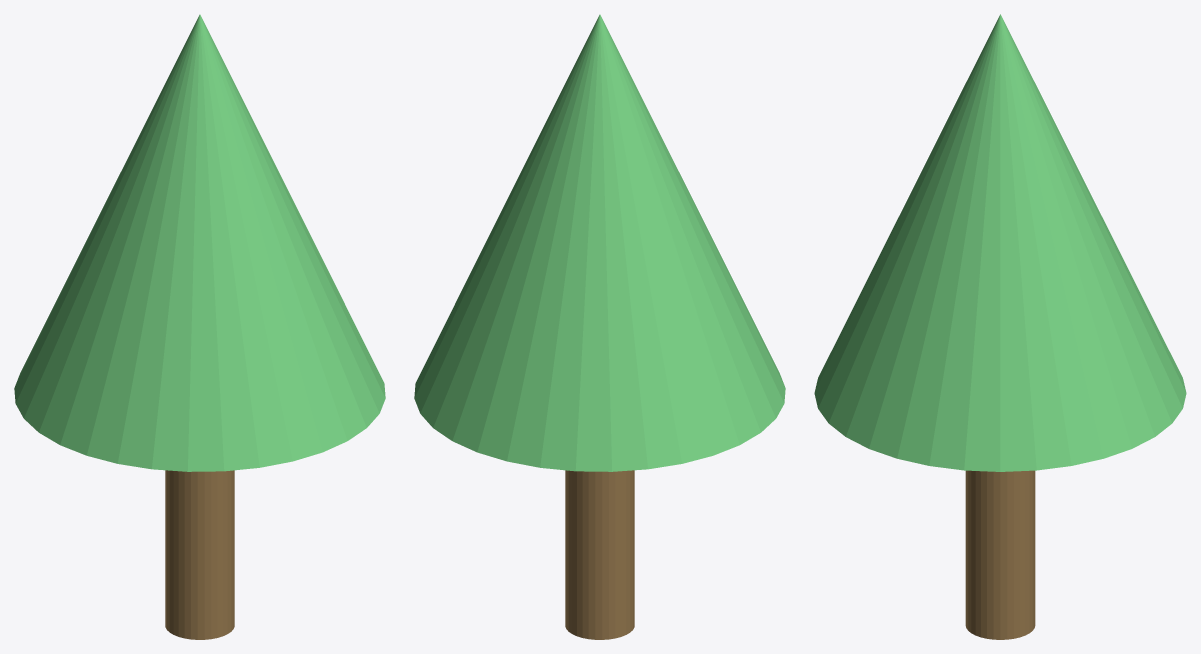
File: tree.glb
The picture shows the model from 3 angles, left to right: view 1: azimuth 30°, elevation 25°; view 2: azimuth 150°, elevation 25°; view 3: azimuth 270°, elevation 25°; orthographic projection.
Visible parts, largest first — view 1: tree; view 2: tree; view 3: tree.
Part boxes in pixels (left/top/right/bottom): tree: left=14, top=14, right=385, bottom=639; tree: left=414, top=14, right=785, bottom=639; tree: left=814, top=14, right=1186, bottom=639.
Size of the model in its own units: 1.6 by 2.9 by 1.6.
